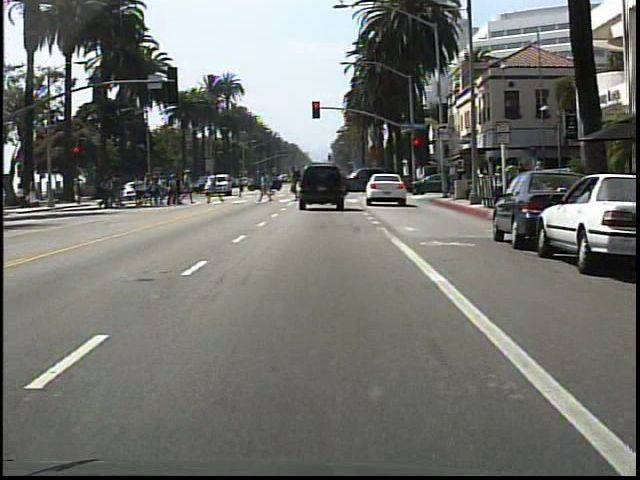person: (490, 161, 506, 206), (230, 169, 250, 204)
